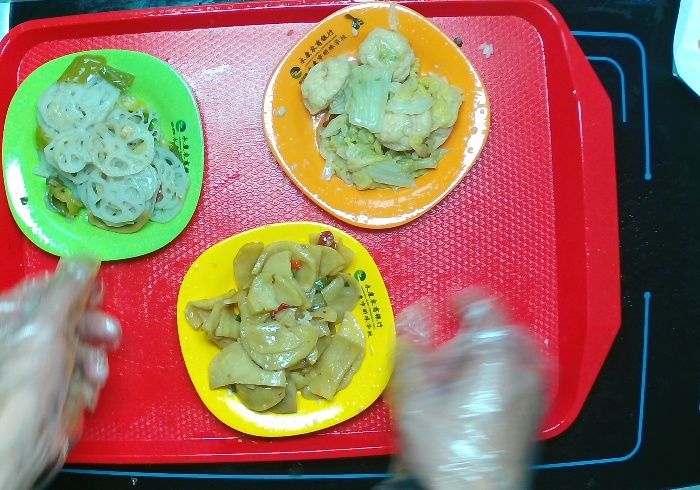YKMZ-Huang_Se_Fang_Die: (174, 218, 399, 439)
YKMZ-Ju_Se_Fang_Die: (261, 4, 491, 231)
YKMZ-Lv_Se_Fang_Die: (2, 48, 207, 265)
